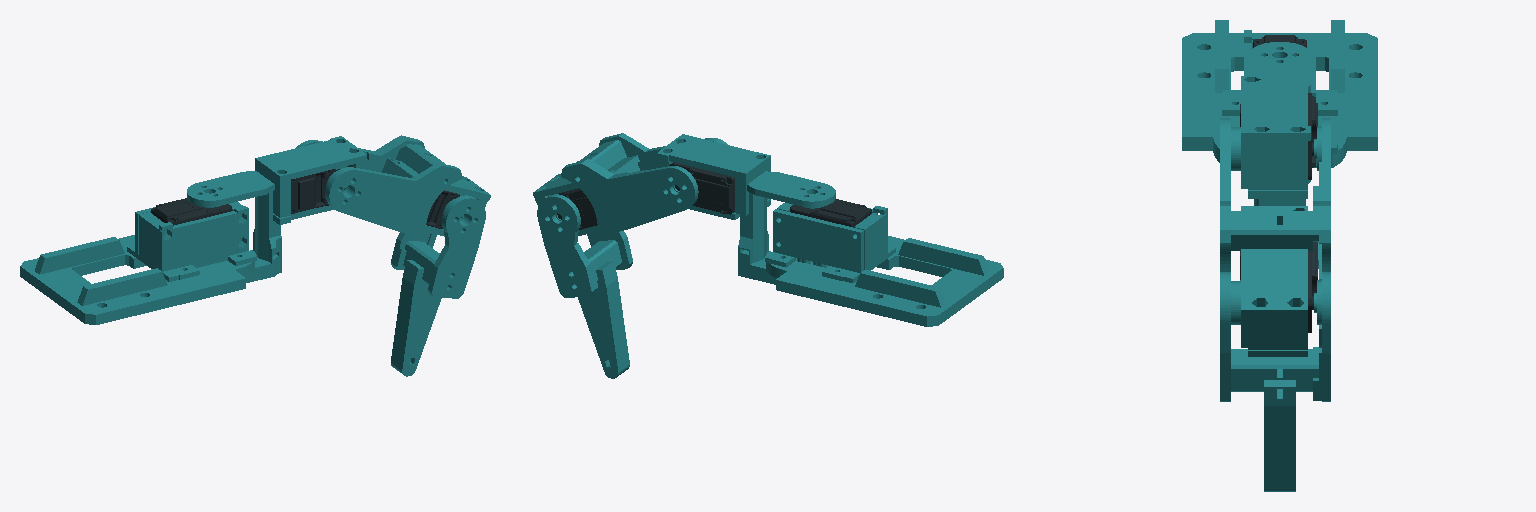
URDF robot description (single_leg_r6):
<?xml version='1.0' encoding='utf-8'?>
<robot name="single_leg_r6">
  <link name="base_mount">
    <visual name="yaw_case_saddle">
      <geometry>
        <mesh filename="assembly_mesh/yaw_case_saddle.stl" scale="0.001 0.001 0.001" />
      </geometry>
      <material name="yaw_case_saddle_colour">
        <color rgba="0.22 0.58 0.60 1" />
      </material>
    </visual>
    <collision name="yaw_case_saddle">
      <geometry>
        <mesh filename="assembly_mesh/yaw_case_saddle.stl" scale="0.001 0.001 0.001" />
      </geometry>
    </collision>
    <visual name="case_cap_yaw">
      <geometry>
        <mesh filename="assembly_mesh/case_cap_yaw.stl" scale="0.001 0.001 0.001" />
      </geometry>
      <material name="case_cap_yaw_colour">
        <color rgba="0.22 0.58 0.60 1" />
      </material>
    </visual>
    <collision name="case_cap_yaw">
      <geometry>
        <mesh filename="assembly_mesh/case_cap_yaw.stl" scale="0.001 0.001 0.001" />
      </geometry>
    </collision>
    <visual name="servo_yaw">
      <geometry>
        <mesh filename="assembly_mesh/servo_yaw.stl" scale="0.001 0.001 0.001" />
      </geometry>
      <material name="servo_yaw_colour">
        <color rgba="0.18 0.23 0.25 1" />
      </material>
    </visual>
    <collision name="servo_yaw">
      <geometry>
        <mesh filename="assembly_mesh/servo_yaw.stl" scale="0.001 0.001 0.001" />
      </geometry>
    </collision>
    <visual name="bench_mounting_plate">
      <geometry>
        <mesh filename="assembly_mesh/bench_mounting_plate.stl" scale="0.001 0.001 0.001" />
      </geometry>
      <material name="bench_mounting_plate_colour">
        <color rgba="0.22 0.58 0.60 1" />
      </material>
    </visual>
    <collision name="bench_mounting_plate">
      <geometry>
        <mesh filename="assembly_mesh/bench_mounting_plate.stl" scale="0.001 0.001 0.001" />
      </geometry>
    </collision>
    <inertial>
      <origin xyz="-0.02932603914454229 -5.18345944710449e-05 -0.023752427821251615" />
      <mass value="0.14821656271041547" />
      <inertia ixx="8.091146063590447e-05" ixy="5.897506104496926e-08" ixz="-2.8542656519177535e-05" iyy="0.00018918478970316444" iyz="-3.832599280877347e-08" izz="0.00022680807046986104" />
    </inertial>
  </link>
  <link name="coxa">
    <visual name="coxa_upper_and_hip_saddle">
      <geometry>
        <mesh filename="assembly_mesh/coxa_upper_and_hip_saddle.stl" scale="0.001 0.001 0.001" />
      </geometry>
      <material name="coxa_upper_and_hip_saddle_colour">
        <color rgba="0.22 0.58 0.60 1" />
      </material>
    </visual>
    <collision name="coxa_upper_and_hip_saddle">
      <geometry>
        <mesh filename="assembly_mesh/coxa_upper_and_hip_saddle.stl" scale="0.001 0.001 0.001" />
      </geometry>
    </collision>
    <visual name="coxa_lower_auxiliary_arm">
      <geometry>
        <mesh filename="assembly_mesh/coxa_lower_auxiliary_arm.stl" scale="0.001 0.001 0.001" />
      </geometry>
      <material name="coxa_lower_auxiliary_arm_colour">
        <color rgba="0.22 0.58 0.60 1" />
      </material>
    </visual>
    <collision name="coxa_lower_auxiliary_arm">
      <geometry>
        <mesh filename="assembly_mesh/coxa_lower_auxiliary_arm.stl" scale="0.001 0.001 0.001" />
      </geometry>
    </collision>
    <visual name="case_cap_hip">
      <geometry>
        <mesh filename="assembly_mesh/case_cap_hip.stl" scale="0.001 0.001 0.001" />
      </geometry>
      <material name="case_cap_hip_colour">
        <color rgba="0.22 0.58 0.60 1" />
      </material>
    </visual>
    <collision name="case_cap_hip">
      <geometry>
        <mesh filename="assembly_mesh/case_cap_hip.stl" scale="0.001 0.001 0.001" />
      </geometry>
    </collision>
    <visual name="servo_hip">
      <geometry>
        <mesh filename="assembly_mesh/servo_hip.stl" scale="0.001 0.001 0.001" />
      </geometry>
      <material name="servo_hip_colour">
        <color rgba="0.18 0.23 0.25 1" />
      </material>
    </visual>
    <collision name="servo_hip">
      <geometry>
        <mesh filename="assembly_mesh/servo_hip.stl" scale="0.001 0.001 0.001" />
      </geometry>
    </collision>
    <visual name="horn_yaw_main">
      <geometry>
        <mesh filename="assembly_mesh/horn_yaw_main.stl" scale="0.001 0.001 0.001" />
      </geometry>
      <material name="horn_yaw_main_colour">
        <color rgba="0.22 0.58 0.60 1" />
      </material>
    </visual>
    <collision name="horn_yaw_main">
      <geometry>
        <mesh filename="assembly_mesh/horn_yaw_main.stl" scale="0.001 0.001 0.001" />
      </geometry>
    </collision>
    <visual name="horn_yaw_auxiliary">
      <geometry>
        <mesh filename="assembly_mesh/horn_yaw_auxiliary.stl" scale="0.001 0.001 0.001" />
      </geometry>
      <material name="horn_yaw_auxiliary_colour">
        <color rgba="0.22 0.58 0.60 1" />
      </material>
    </visual>
    <collision name="horn_yaw_auxiliary">
      <geometry>
        <mesh filename="assembly_mesh/horn_yaw_auxiliary.stl" scale="0.001 0.001 0.001" />
      </geometry>
    </collision>
    <visual name="yaw_auxiliary_spacer_1">
      <geometry>
        <mesh filename="assembly_mesh/yaw_auxiliary_spacer_1.stl" scale="0.001 0.001 0.001" />
      </geometry>
      <material name="yaw_auxiliary_spacer_1_colour">
        <color rgba="0.22 0.58 0.60 1" />
      </material>
    </visual>
    <collision name="yaw_auxiliary_spacer_1">
      <geometry>
        <mesh filename="assembly_mesh/yaw_auxiliary_spacer_1.stl" scale="0.001 0.001 0.001" />
      </geometry>
    </collision>
    <visual name="yaw_auxiliary_spacer_2">
      <geometry>
        <mesh filename="assembly_mesh/yaw_auxiliary_spacer_2.stl" scale="0.001 0.001 0.001" />
      </geometry>
      <material name="yaw_auxiliary_spacer_2_colour">
        <color rgba="0.22 0.58 0.60 1" />
      </material>
    </visual>
    <collision name="yaw_auxiliary_spacer_2">
      <geometry>
        <mesh filename="assembly_mesh/yaw_auxiliary_spacer_2.stl" scale="0.001 0.001 0.001" />
      </geometry>
    </collision>
    <visual name="yaw_auxiliary_spacer_3">
      <geometry>
        <mesh filename="assembly_mesh/yaw_auxiliary_spacer_3.stl" scale="0.001 0.001 0.001" />
      </geometry>
      <material name="yaw_auxiliary_spacer_3_colour">
        <color rgba="0.22 0.58 0.60 1" />
      </material>
    </visual>
    <collision name="yaw_auxiliary_spacer_3">
      <geometry>
        <mesh filename="assembly_mesh/yaw_auxiliary_spacer_3.stl" scale="0.001 0.001 0.001" />
      </geometry>
    </collision>
    <visual name="yaw_auxiliary_spacer_4">
      <geometry>
        <mesh filename="assembly_mesh/yaw_auxiliary_spacer_4.stl" scale="0.001 0.001 0.001" />
      </geometry>
      <material name="yaw_auxiliary_spacer_4_colour">
        <color rgba="0.22 0.58 0.60 1" />
      </material>
    </visual>
    <collision name="yaw_auxiliary_spacer_4">
      <geometry>
        <mesh filename="assembly_mesh/yaw_auxiliary_spacer_4.stl" scale="0.001 0.001 0.001" />
      </geometry>
    </collision>
    <inertial>
      <origin xyz="0.055452587774020255 -0.00032622706613614225 -0.007411181974307129" />
      <mass value="0.11618827437852595" />
      <inertia ixx="4.884448832271316e-05" ixy="7.745356217217634e-07" ixz="-3.0773868545057644e-05" iyy="0.0001315815648874679" iyz="5.456770085067065e-07" izz="9.845169734911079e-05" />
    </inertial>
  </link>
  <link name="femur">
    <visual name="femur_main_and_knee_saddle">
      <geometry>
        <mesh filename="assembly_mesh/femur_main_and_knee_saddle.stl" scale="0.001 0.001 0.001" />
      </geometry>
      <material name="femur_main_and_knee_saddle_colour">
        <color rgba="0.22 0.58 0.60 1" />
      </material>
    </visual>
    <collision name="femur_main_and_knee_saddle">
      <geometry>
        <mesh filename="assembly_mesh/femur_main_and_knee_saddle.stl" scale="0.001 0.001 0.001" />
      </geometry>
    </collision>
    <visual name="femur_auxiliary_cheek">
      <geometry>
        <mesh filename="assembly_mesh/femur_auxiliary_cheek.stl" scale="0.001 0.001 0.001" />
      </geometry>
      <material name="femur_auxiliary_cheek_colour">
        <color rgba="0.22 0.58 0.60 1" />
      </material>
    </visual>
    <collision name="femur_auxiliary_cheek">
      <geometry>
        <mesh filename="assembly_mesh/femur_auxiliary_cheek.stl" scale="0.001 0.001 0.001" />
      </geometry>
    </collision>
    <visual name="case_cap_knee">
      <geometry>
        <mesh filename="assembly_mesh/case_cap_knee.stl" scale="0.001 0.001 0.001" />
      </geometry>
      <material name="case_cap_knee_colour">
        <color rgba="0.22 0.58 0.60 1" />
      </material>
    </visual>
    <collision name="case_cap_knee">
      <geometry>
        <mesh filename="assembly_mesh/case_cap_knee.stl" scale="0.001 0.001 0.001" />
      </geometry>
    </collision>
    <visual name="servo_knee">
      <geometry>
        <mesh filename="assembly_mesh/servo_knee.stl" scale="0.001 0.001 0.001" />
      </geometry>
      <material name="servo_knee_colour">
        <color rgba="0.18 0.23 0.25 1" />
      </material>
    </visual>
    <collision name="servo_knee">
      <geometry>
        <mesh filename="assembly_mesh/servo_knee.stl" scale="0.001 0.001 0.001" />
      </geometry>
    </collision>
    <visual name="horn_hip_main">
      <geometry>
        <mesh filename="assembly_mesh/horn_hip_main.stl" scale="0.001 0.001 0.001" />
      </geometry>
      <material name="horn_hip_main_colour">
        <color rgba="0.22 0.58 0.60 1" />
      </material>
    </visual>
    <collision name="horn_hip_main">
      <geometry>
        <mesh filename="assembly_mesh/horn_hip_main.stl" scale="0.001 0.001 0.001" />
      </geometry>
    </collision>
    <visual name="horn_hip_auxiliary">
      <geometry>
        <mesh filename="assembly_mesh/horn_hip_auxiliary.stl" scale="0.001 0.001 0.001" />
      </geometry>
      <material name="horn_hip_auxiliary_colour">
        <color rgba="0.22 0.58 0.60 1" />
      </material>
    </visual>
    <collision name="horn_hip_auxiliary">
      <geometry>
        <mesh filename="assembly_mesh/horn_hip_auxiliary.stl" scale="0.001 0.001 0.001" />
      </geometry>
    </collision>
    <inertial>
      <origin xyz="0.06493175108415518 -0.00013701116381316774 0.0018317638571762377" />
      <mass value="0.12612143151612626" />
      <inertia ixx="3.6519032536682184e-05" ixy="1.5823338843429405e-06" ixz="-1.9566396822396e-08" iyy="0.0001046387363510342" iyz="1.3437421655593213e-07" izz="0.00011221852942826296" />
    </inertial>
  </link>
  <link name="tibia">
    <visual name="tibia_curved_main_and_foot">
      <geometry>
        <mesh filename="assembly_mesh/tibia_curved_main_and_foot.stl" scale="0.001 0.001 0.001" />
      </geometry>
      <material name="tibia_curved_main_and_foot_colour">
        <color rgba="0.22 0.58 0.60 1" />
      </material>
    </visual>
    <collision name="tibia_curved_main_and_foot">
      <geometry>
        <mesh filename="assembly_mesh/tibia_curved_main_and_foot.stl" scale="0.001 0.001 0.001" />
      </geometry>
    </collision>
    <visual name="tibia_auxiliary_cheek">
      <geometry>
        <mesh filename="assembly_mesh/tibia_auxiliary_cheek.stl" scale="0.001 0.001 0.001" />
      </geometry>
      <material name="tibia_auxiliary_cheek_colour">
        <color rgba="0.22 0.58 0.60 1" />
      </material>
    </visual>
    <collision name="tibia_auxiliary_cheek">
      <geometry>
        <mesh filename="assembly_mesh/tibia_auxiliary_cheek.stl" scale="0.001 0.001 0.001" />
      </geometry>
    </collision>
    <visual name="horn_knee_main">
      <geometry>
        <mesh filename="assembly_mesh/horn_knee_main.stl" scale="0.001 0.001 0.001" />
      </geometry>
      <material name="horn_knee_main_colour">
        <color rgba="0.22 0.58 0.60 1" />
      </material>
    </visual>
    <collision name="horn_knee_main">
      <geometry>
        <mesh filename="assembly_mesh/horn_knee_main.stl" scale="0.001 0.001 0.001" />
      </geometry>
    </collision>
    <visual name="horn_knee_auxiliary">
      <geometry>
        <mesh filename="assembly_mesh/horn_knee_auxiliary.stl" scale="0.001 0.001 0.001" />
      </geometry>
      <material name="horn_knee_auxiliary_colour">
        <color rgba="0.22 0.58 0.60 1" />
      </material>
    </visual>
    <collision name="horn_knee_auxiliary">
      <geometry>
        <mesh filename="assembly_mesh/horn_knee_auxiliary.stl" scale="0.001 0.001 0.001" />
      </geometry>
    </collision>
    <inertial>
      <origin xyz="0.04336529443865762 0.0004174158334805665 0.00033025624227201475" />
      <mass value="0.04573822926171757" />
      <inertia ixx="1.0473259371468313e-05" ixy="4.905247008201092e-07" ixz="4.436404441808331e-07" iyy="4.1786260661158507e-05" iyz="4.52779443319734e-08" izz="4.9054826302336614e-05" />
    </inertial>
  </link>
  <joint name="yaw" type="revolute">
    <parent link="base_mount" />
    <child link="coxa" />
    <origin xyz="0 0 0" rpy="0 0 0" />
    <axis xyz="0 0 1" />
    <limit lower="-0.9599310885968813" upper="0.9599310885968813" effort="0.8" velocity="0.5" />
    <dynamics damping="0.03" friction="0.0" />
  </joint>
  <joint name="hip" type="revolute">
    <parent link="coxa" />
    <child link="femur" />
    <origin xyz=".082 0 0" rpy="0 0 0" />
    <axis xyz="0 1 0" />
    <limit lower="0.2792526803190927" upper="0.5934119456780721" effort="0.8" velocity="0.5" />
    <dynamics damping="0.03" friction="0.0" />
  </joint>
  <joint name="knee" type="revolute">
    <parent link="femur" />
    <child link="tibia" />
    <origin xyz=".090 0 0" rpy="0 0 0" />
    <axis xyz="0 1 0" />
    <limit lower="1.2217304763960306" upper="1.5882496193148399" effort="0.8" velocity="0.5" />
    <dynamics damping="0.03" friction="0.0" />
  </joint>
</robot>

--- Render facts (derived) ---
The picture shows the robot from 3 angles, left to right: view 1: azimuth 30°, elevation 25°; view 2: azimuth 150°, elevation 25°; view 3: azimuth 270°, elevation 25°; orthographic projection.
Model single_leg_r6 with 4 links and 3 joints (3 revolute), rooted at base_mount, posed all joints at 0 but 2 set to mid-range because 0 is outside their limits (hip = 0.4363, knee = 1.4).
Links seen in each view (by area): view 1: base_mount, femur, coxa, tibia; view 2: base_mount, coxa, femur, tibia; view 3: femur, base_mount, coxa, tibia.
Boxes of the visible links, bbox=[...] form: base_mount: bbox=[20, 198, 256, 324]; femur: bbox=[296, 135, 490, 237]; coxa: bbox=[187, 136, 366, 282]; tibia: bbox=[391, 195, 485, 376]; base_mount: bbox=[765, 199, 1003, 326]; coxa: bbox=[657, 134, 835, 284]; femur: bbox=[533, 133, 727, 236]; tibia: bbox=[537, 194, 632, 378]; femur: bbox=[1220, 118, 1330, 356]; base_mount: bbox=[1182, 20, 1377, 167]; coxa: bbox=[1240, 42, 1317, 205]; tibia: bbox=[1220, 272, 1330, 491].
Size in the robot's own frame: 0.2969 by 0.088 by 0.1604 metres.
24 mesh visuals loaded from 24 distinct referenced files (24 binary STL).
